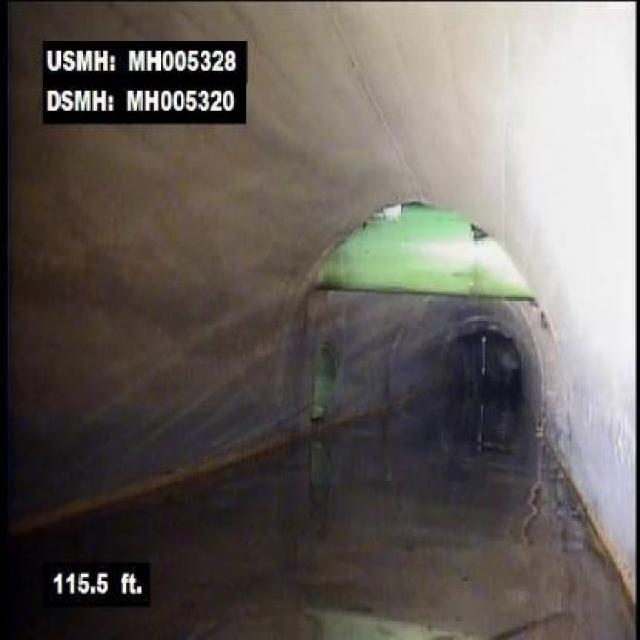Utility intrusion: (306, 195, 537, 303)
